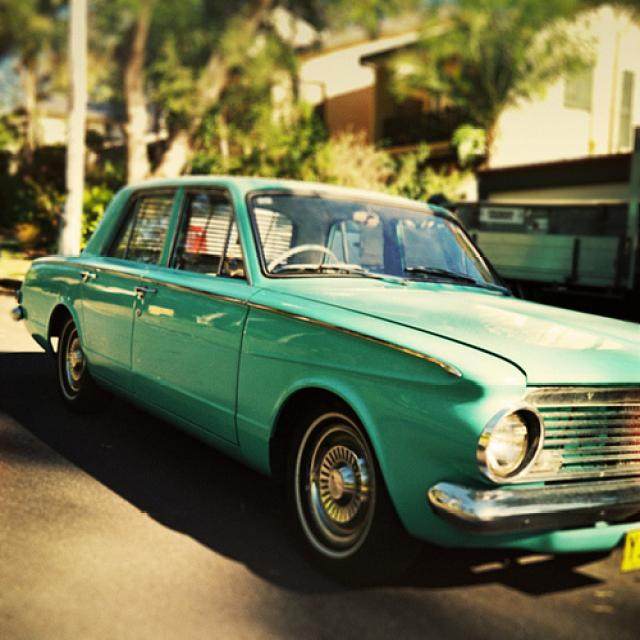Car: (17, 172, 640, 579)
